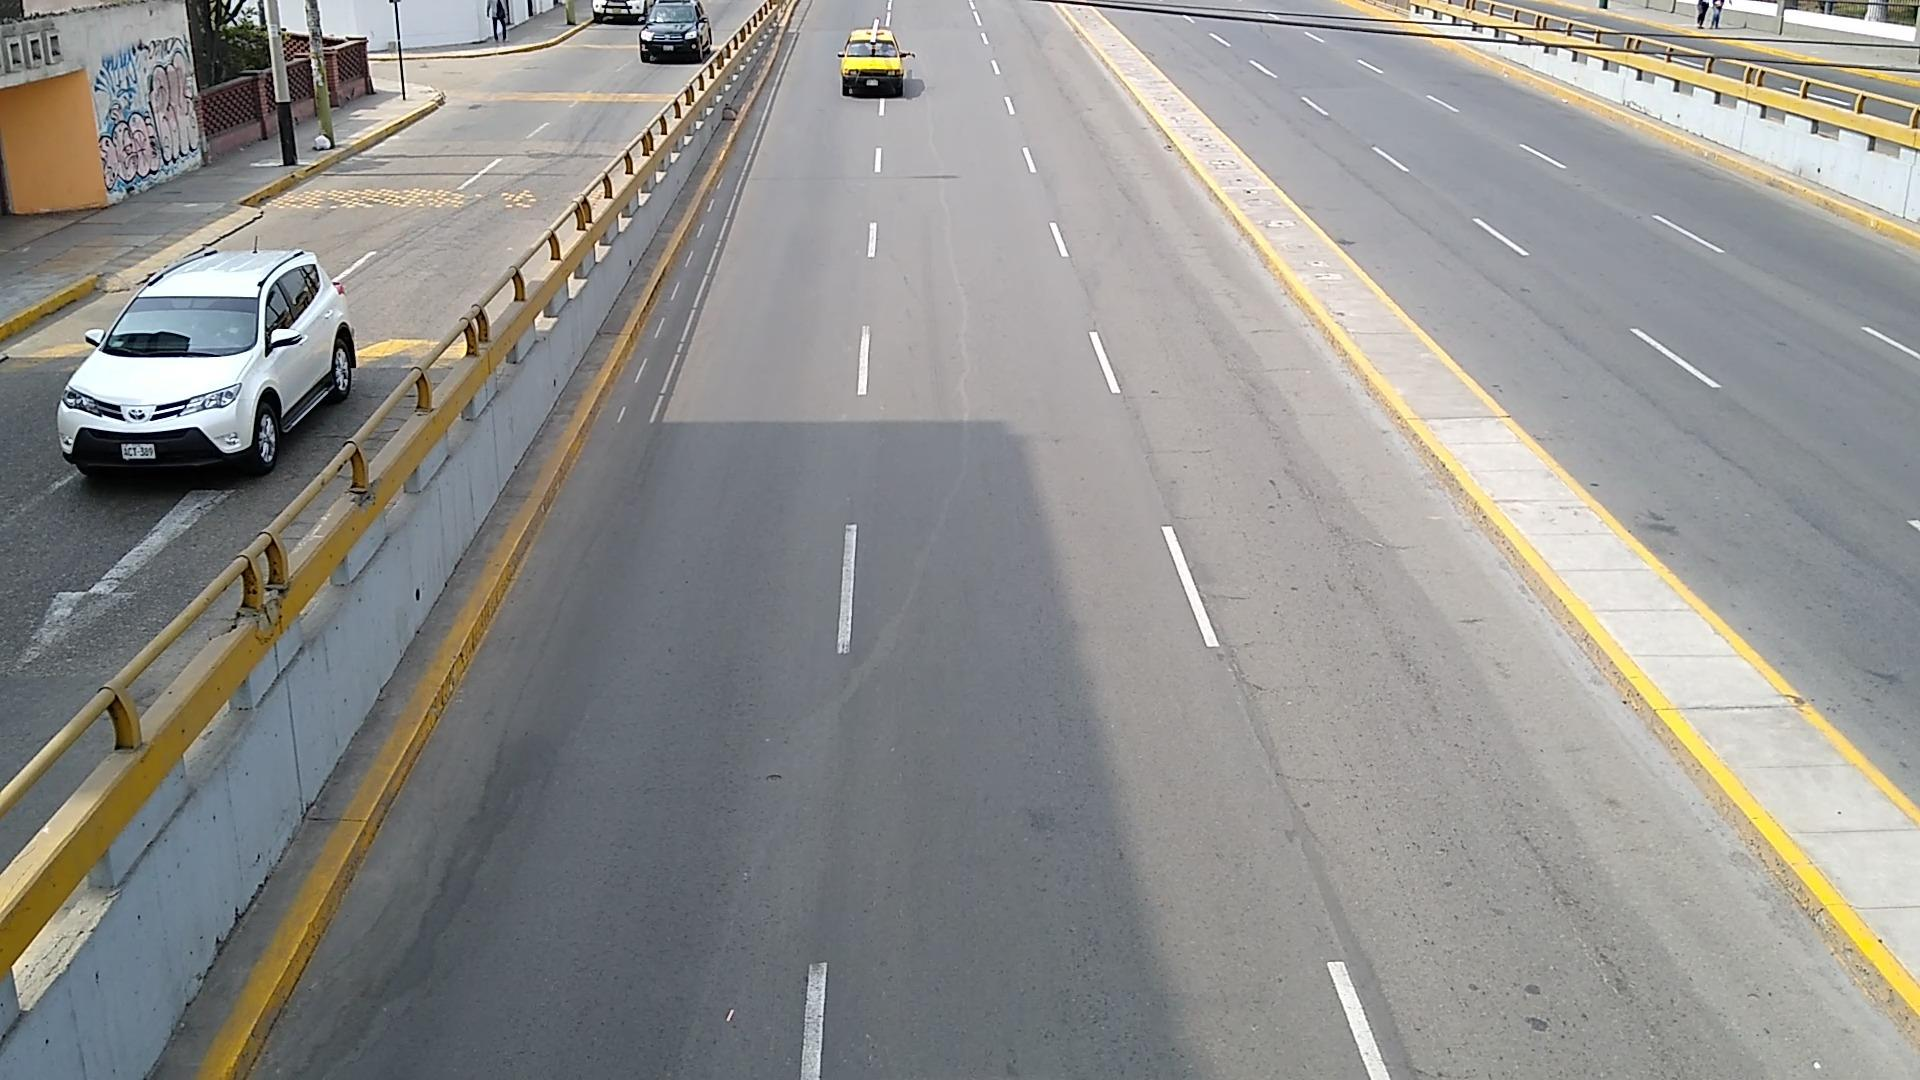car: (57, 248, 356, 476), (840, 26, 911, 92), (641, 0, 712, 58)
